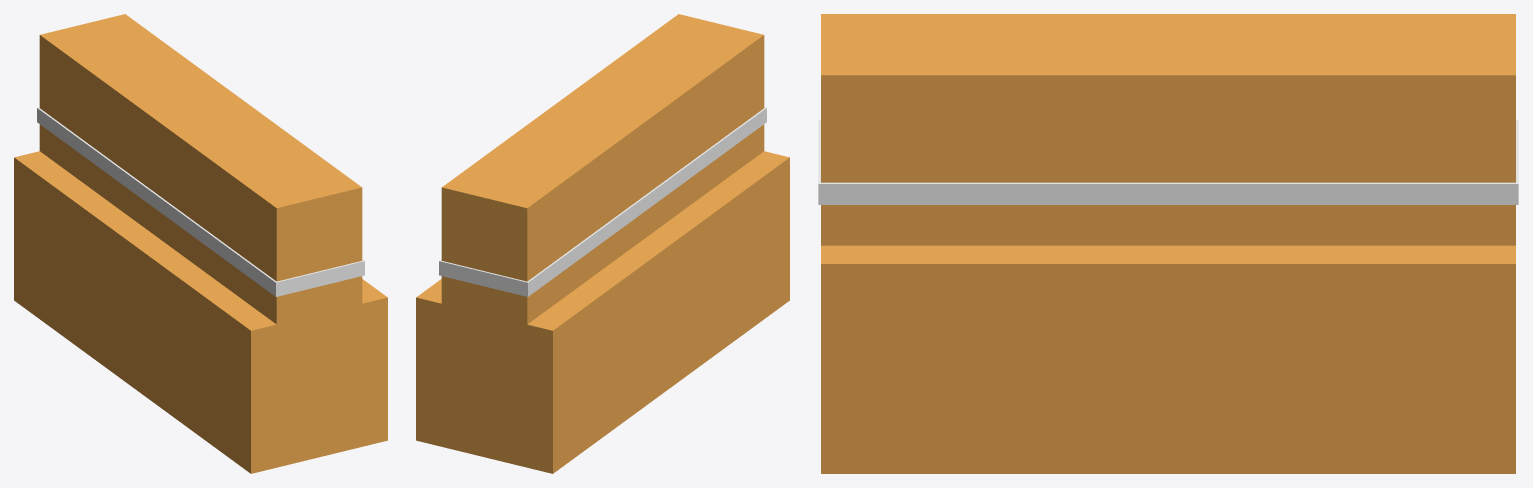
Rendered from barrier.glb.
3 views of the same model, side by side, from view 1: azimuth 30°, elevation 25°; view 2: azimuth 150°, elevation 25°; view 3: azimuth 270°, elevation 25° (orthographic). The views are drawn at different scales.
Size of the model in its own units: 0.4 by 0.725 by 1.21.
